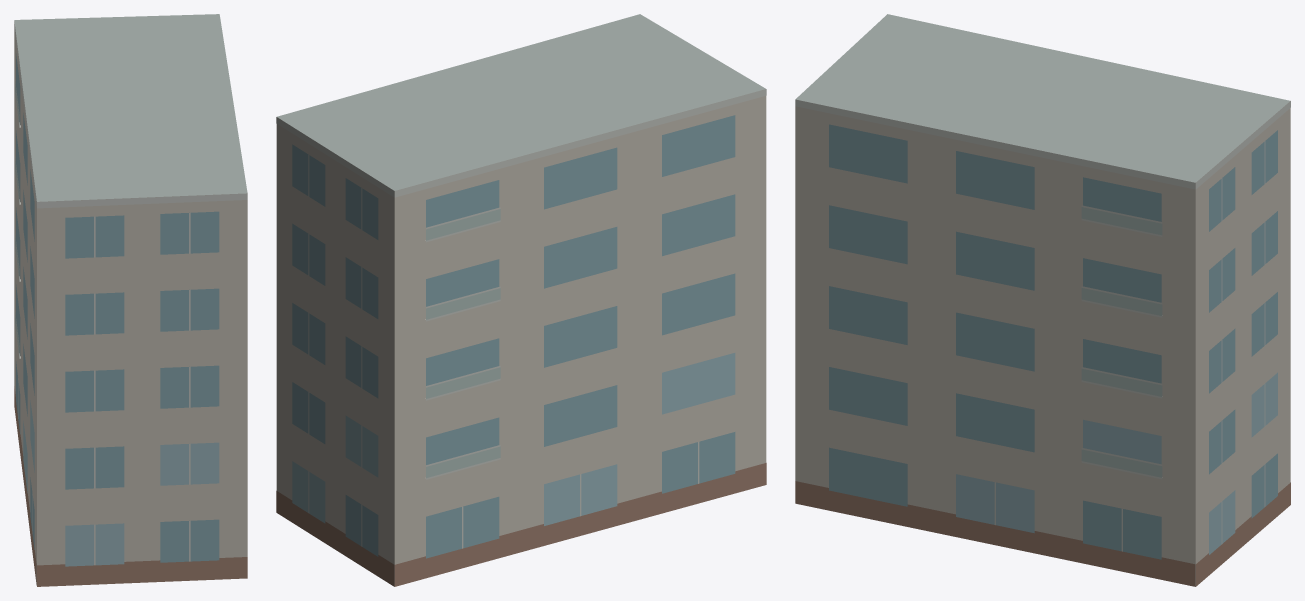
The model's file is survey-upis-32889588.glb.
3 views of the same model, side by side, from view 1: azimuth 30°, elevation 25°; view 2: azimuth 150°, elevation 25°; view 3: azimuth 270°, elevation 25° (orthographic). The views are drawn at different scales.
Parts seen in each view (by area): view 1: survey-upis-32889588.tmp; view 2: survey-upis-32889588.tmp; view 3: survey-upis-32889588.tmp.
Part boxes in pixels (left/top/right/bottom): survey-upis-32889588.tmp: left=14, top=14, right=247, bottom=586; survey-upis-32889588.tmp: left=276, top=14, right=766, bottom=586; survey-upis-32889588.tmp: left=795, top=14, right=1290, bottom=586.
Bounding box in the file's own units: 12.91 × 14.4 × 16.01.
